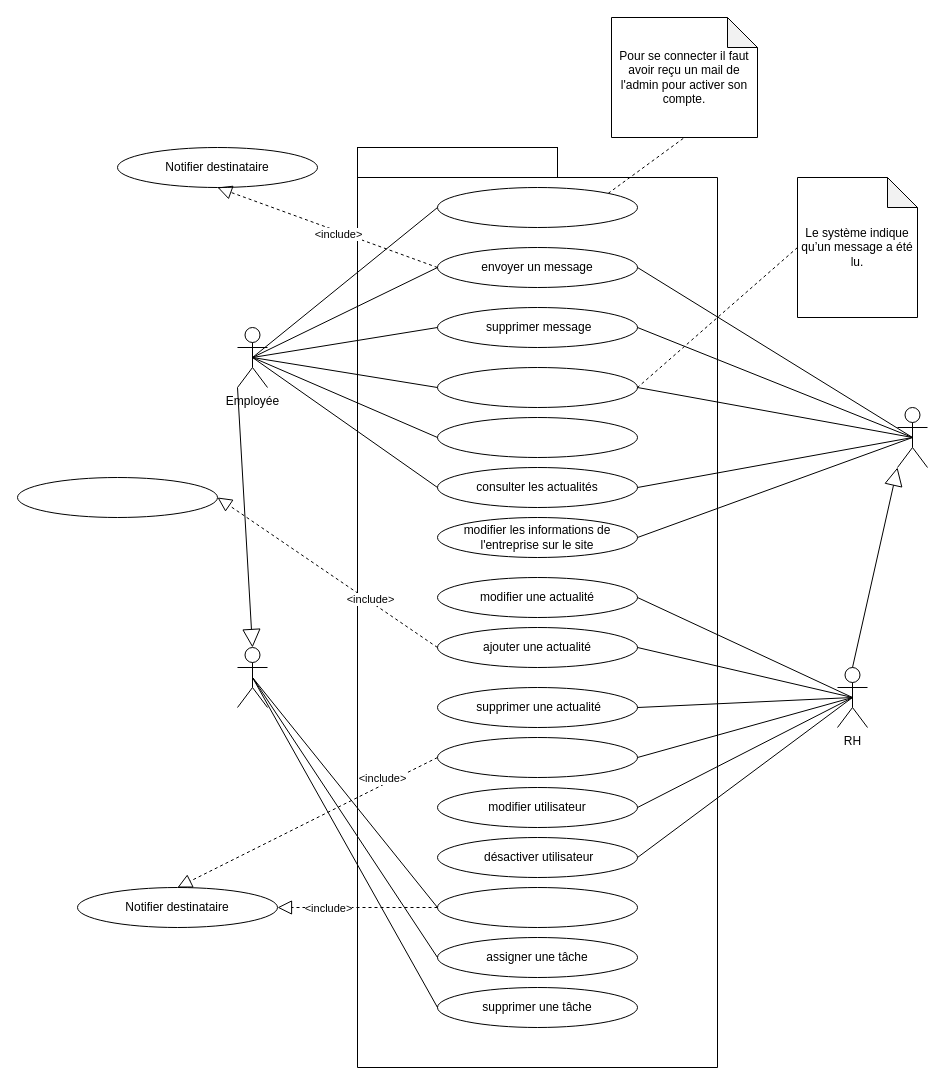
The diagram is 947 pixels wide and 1085 high, and some of its shapes have lost their labels. The shapes that lost their labels are listed below. From the top down, each one's centre as x and y in pixels, then its label:
At point 457,162: "connecTeam".
At point 537,207: "se connecter / se déconnecter / Réinitialiser mot de passe".
At point 537,387: "consulter message".
At point 537,437: "modifier statut d'une tache".
At point 912,437: "Admin".
At point 117,497: "Envoyer annonce générale".
At point 252,677: "Manager".
At point 537,757: "créer utilisateur".
At point 537,907: "créer une tâche".
